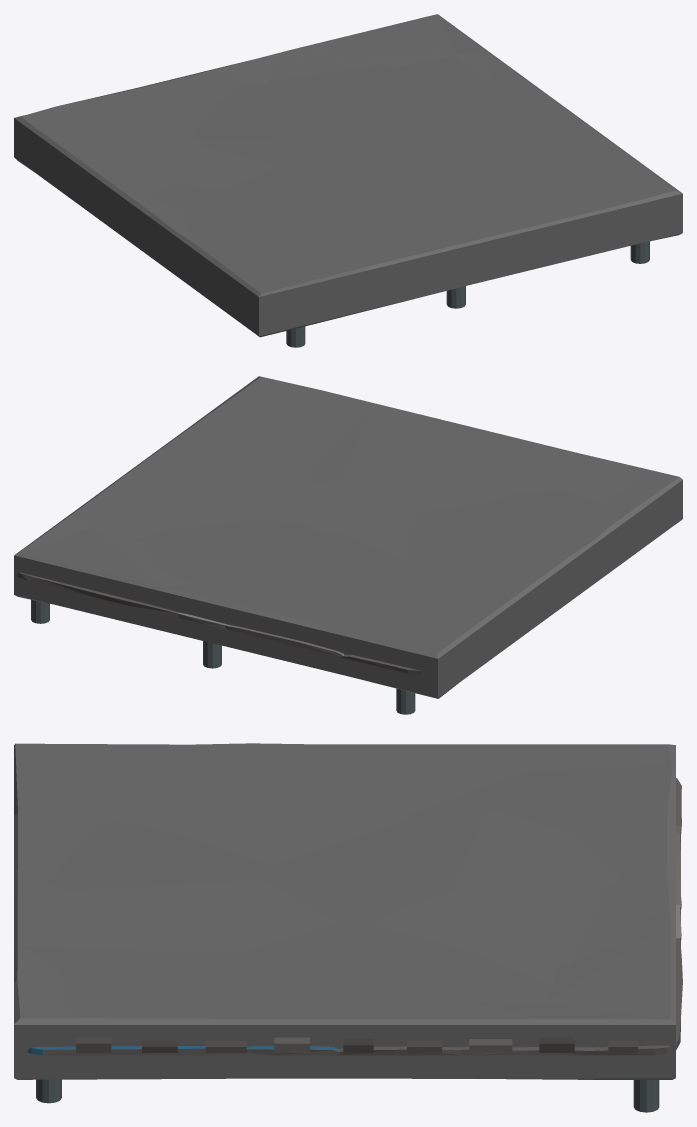
Rendered from SM_Concrete_Floor_Lvl_1.glb.
3 renders of one model, top to bottom at view 1: azimuth 30°, elevation 25°; view 2: azimuth 150°, elevation 25°; view 3: azimuth 270°, elevation 25°, orthographic. The views are drawn at different scales.
Parts seen in each view (by area): view 1: SM_Concrete_Floor_Lvl_1, SM_Concrete_Floor_Lvl_2; view 2: SM_Concrete_Floor_Lvl_1, SM_Concrete_Floor_Lvl_2; view 3: SM_Concrete_Floor_Lvl_1, SM_Concrete_Floor_Lvl_2, SM_Concrete_Floor_Lvl_3.
Part boxes in pixels (x1=…): SM_Concrete_Floor_Lvl_1: x1=14, y1=14, x2=682, y2=337; SM_Concrete_Floor_Lvl_2: x1=286, y1=241, x2=649, y2=347; SM_Concrete_Floor_Lvl_1: x1=14, y1=376, x2=682, y2=698; SM_Concrete_Floor_Lvl_2: x1=17, y1=572, x2=420, y2=714; SM_Concrete_Floor_Lvl_1: x1=14, y1=743, x2=675, y2=1079; SM_Concrete_Floor_Lvl_2: x1=27, y1=778, x2=682, y2=1112; SM_Concrete_Floor_Lvl_3: x1=76, y1=1037, x2=637, y2=1052.
Bounding box in the file's own units: 2.04 × 0.3301 × 2.02.
1 material, 1 textured.
